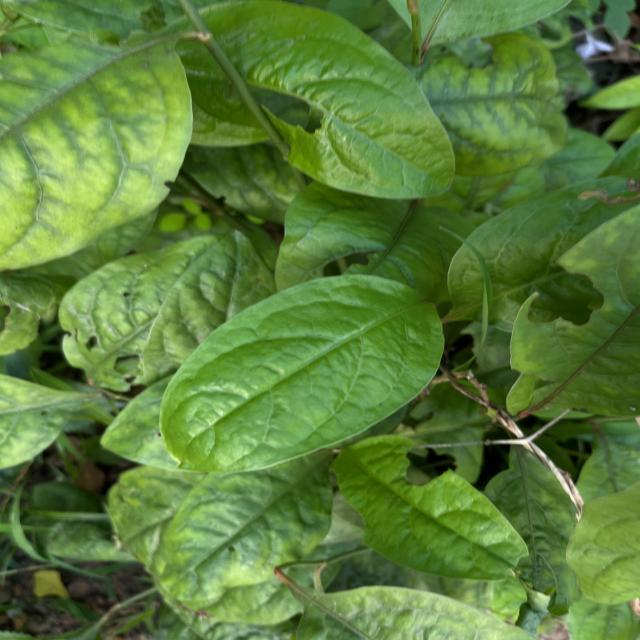Plumbago indica: (155, 267, 450, 483), (178, 0, 459, 201), (326, 434, 536, 582)
